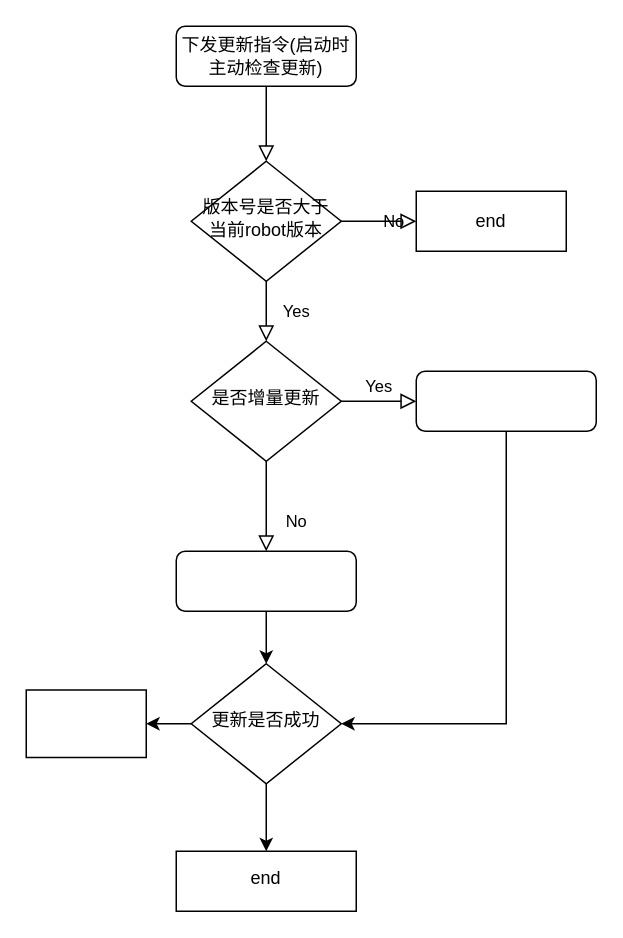
Some shapes in this 623 by 938 pixel diagram are drawn without their labels. The centre of each missing label's shape, as x and y in pixels:
"bspatch" goes at (505,400).
"回滚" goes at (85,723).
"更新(热更新)" goes at (265,580).
